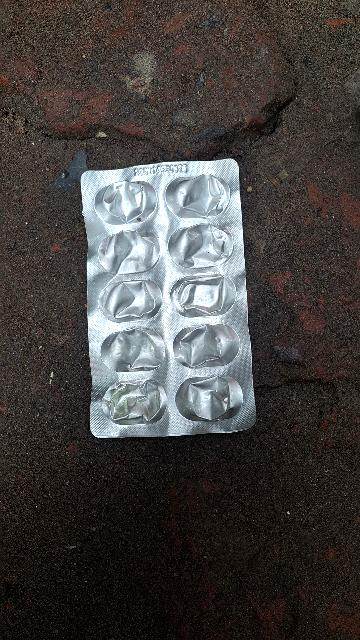medicine: (78, 148, 267, 442)
